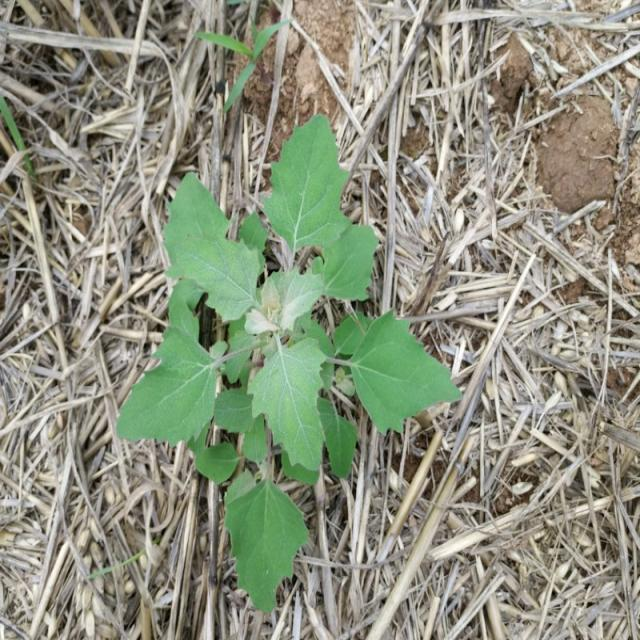ca: (165, 114, 379, 613)
